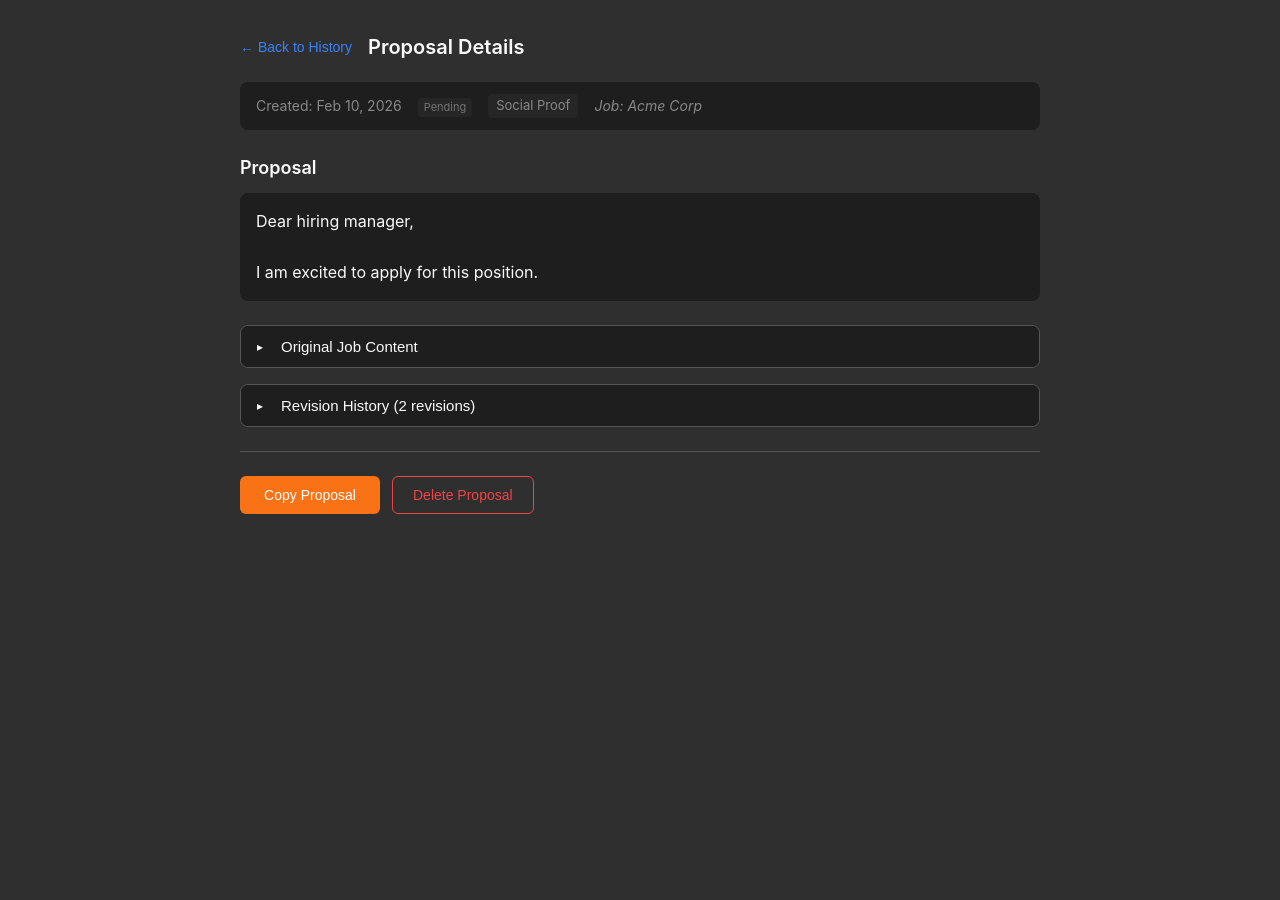
Test: ProposalDetailView › shows delete confirmation dialog (AC-6)
# Click delete
Click the button "Delete Proposal". click: (463, 495)
box: [392,476,534,514]
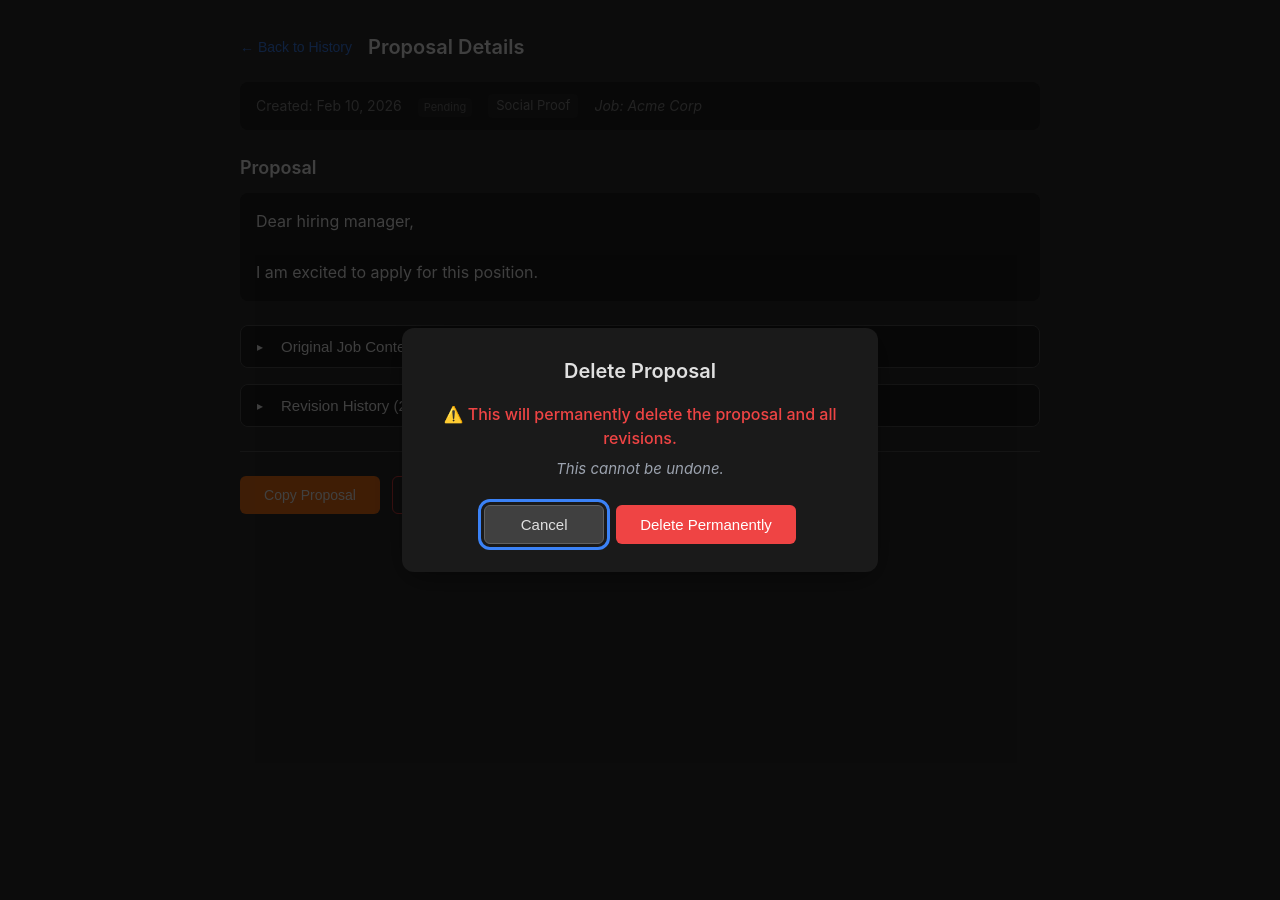
Check: the button "Delete Permanently" is shown, box [616,505,796,544]
Check: the button "Cancel" is shown, box [484,505,604,544]
